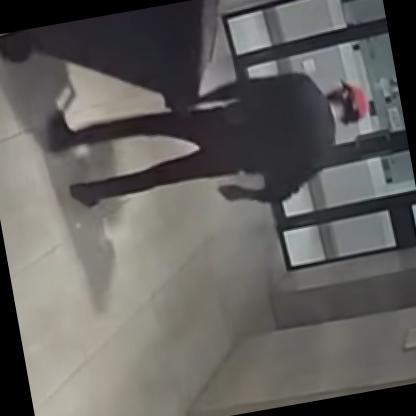Human Body: (45, 60, 382, 240)
